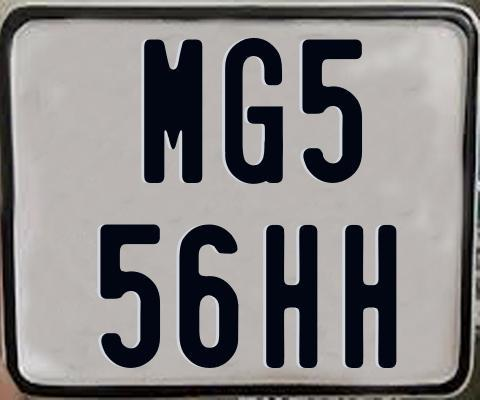5: (99, 221, 164, 366), (300, 39, 363, 185)
6: (179, 224, 240, 369)
G: (223, 35, 285, 186)
H: (344, 225, 400, 373), (266, 222, 318, 365)
M: (142, 37, 204, 185)
